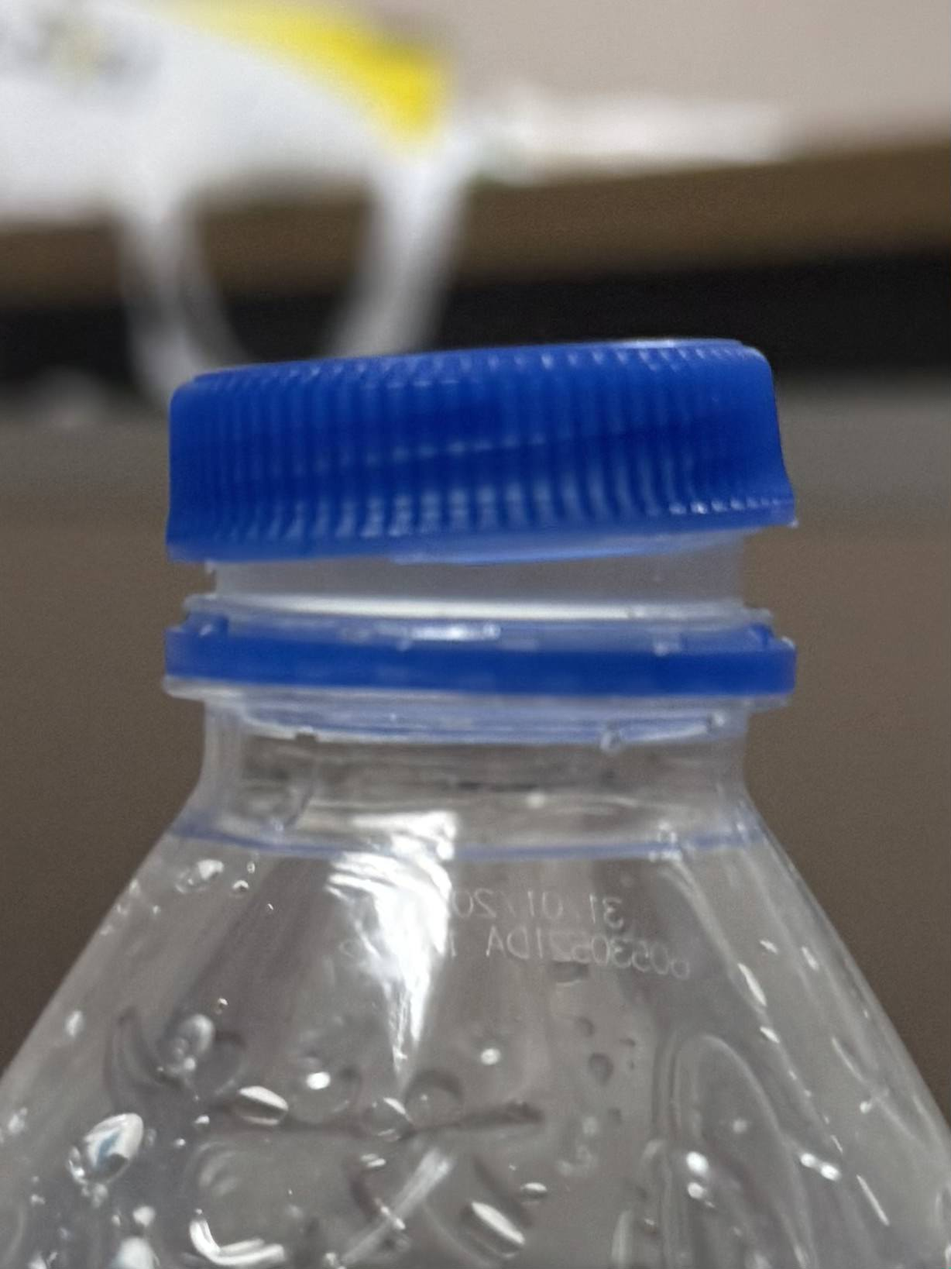half_cap: (162, 331, 798, 761)
